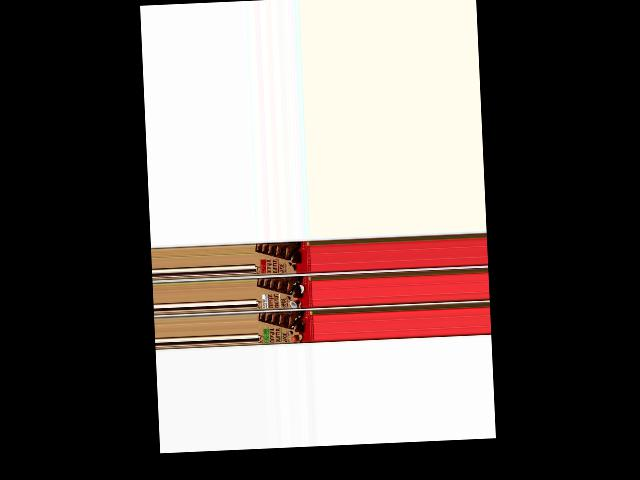chocolate: (257, 310, 315, 346)
